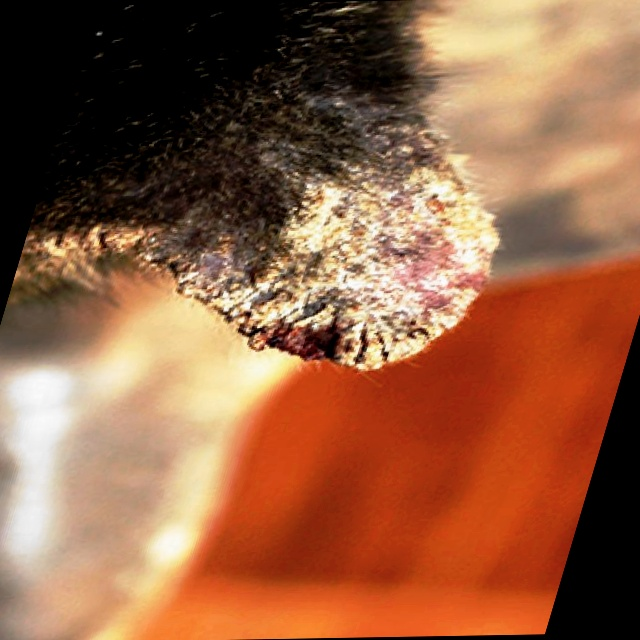ringworm: (208, 147, 510, 358)
